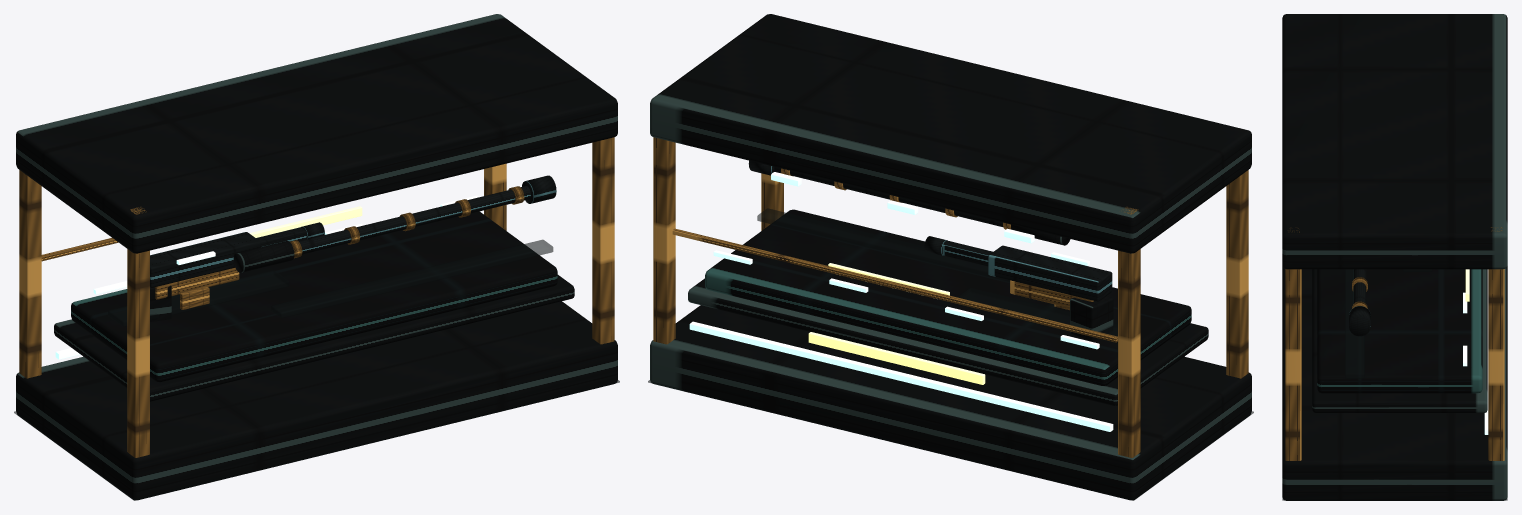
File: hp_room_museum_last_human_tool_vitrine.glb
3 views of the same model, side by side, from view 1: azimuth 30°, elevation 25°; view 2: azimuth 150°, elevation 25°; view 3: azimuth 270°, elevation 25° (orthographic). The views are drawn at different scales.
Visible parts, largest first — view 1: tool_case_upper_cap_smoked_black_textured, tool_case_lower_plinth_smoked_black_textured, tool_asset_single_cut_foam_tray, tool_case_inner_deck_smoked_display_floor, tool_case_aged_brass_corner_post_-1.005_-0.405, tool_case_aged_brass_corner_post_1.005_-0.405, tool_case_aged_brass_corner_post_-1.005_0.405, tool_asset_rod_recess_shadow, tool_asset_sidearm_slide_battleworn_black, tool_asset_iron_rod_battleworn_main_shaft, tool_asset_pistol_recess_shadow, tool_asset_iron_rod_black_grip_wrap (+5 smaller); view 2: tool_case_upper_cap_smoked_black_textured, tool_case_lower_plinth_smoked_black_textured, tool_asset_single_cut_foam_tray, tool_case_inner_deck_smoked_display_floor, tool_case_aged_brass_corner_post_-1.005_0.405, tool_case_aged_brass_corner_post_1.005_0.405, tool_case_aged_brass_corner_post_-1.005_-0.405, tool_case_cyan_floor_light_line, tool_asset_sidearm_slide_battleworn_black, tool_asset_rod_recess_shadow, tool_case_thin_front_lip_beveled_brass, tool_case_amber_unlabeled_accession_slot (+7 smaller); view 3: tool_case_upper_cap_smoked_black_textured, tool_case_lower_plinth_smoked_black_textured, tool_asset_single_cut_foam_tray, tool_case_inner_deck_smoked_display_floor, tool_case_aged_brass_corner_post_1.005_0.405, tool_case_aged_brass_corner_post_1.005_-0.405, tool_asset_rod_recess_shadow, tool_asset_iron_rod_flat_weighted_tip, contact_shadow_grounded, tool_asset_iron_rod_battleworn_main_shaft, tool_case_cyan_floor_light_line.
Boxes of the visible parts, bbox=[...] form: tool_case_upper_cap_smoked_black_textured: bbox=[16, 14, 617, 253]; tool_case_lower_plinth_smoked_black_textured: bbox=[16, 301, 617, 500]; tool_asset_single_cut_foam_tray: bbox=[71, 211, 557, 382]; tool_case_inner_deck_smoked_display_floor: bbox=[54, 275, 574, 401]; tool_case_aged_brass_corner_post_-1.005_-0.405: bbox=[127, 207, 149, 457]; tool_case_aged_brass_corner_post_1.005_-0.405: bbox=[592, 137, 614, 344]; tool_case_aged_brass_corner_post_-1.005_0.405: bbox=[19, 170, 41, 378]; tool_asset_rod_recess_shadow: bbox=[271, 239, 553, 317]; tool_asset_sidearm_slide_battleworn_black: bbox=[150, 232, 260, 287]; tool_asset_iron_rod_battleworn_main_shaft: bbox=[299, 186, 530, 254]; tool_asset_pistol_recess_shadow: bbox=[108, 270, 289, 326]; tool_asset_iron_rod_black_grip_wrap: bbox=[233, 241, 294, 272]; tool_case_upper_cap_smoked_black_textured: bbox=[650, 14, 1251, 253]; tool_case_lower_plinth_smoked_black_textured: bbox=[650, 305, 1251, 500]; tool_asset_single_cut_foam_tray: bbox=[705, 209, 1191, 385]; tool_case_inner_deck_smoked_display_floor: bbox=[688, 278, 1208, 405]; tool_case_aged_brass_corner_post_-1.005_0.405: bbox=[1118, 207, 1140, 457]; tool_case_aged_brass_corner_post_1.005_0.405: bbox=[653, 137, 675, 344]; tool_case_aged_brass_corner_post_-1.005_-0.405: bbox=[1226, 170, 1248, 378]; tool_case_cyan_floor_light_line: bbox=[689, 321, 1113, 431]; tool_asset_sidearm_slide_battleworn_black: bbox=[988, 245, 1112, 301]; tool_asset_rod_recess_shadow: bbox=[757, 208, 1009, 282]; tool_case_thin_front_lip_beveled_brass: bbox=[672, 228, 1117, 342]; tool_case_amber_unlabeled_accession_slot: bbox=[808, 332, 985, 384]; tool_case_upper_cap_smoked_black_textured: bbox=[1282, 14, 1507, 269]; tool_case_lower_plinth_smoked_black_textured: bbox=[1282, 266, 1507, 500]; tool_asset_single_cut_foam_tray: bbox=[1317, 269, 1482, 393]; tool_case_inner_deck_smoked_display_floor: bbox=[1312, 269, 1487, 412]; tool_case_aged_brass_corner_post_1.005_0.405: bbox=[1488, 227, 1504, 460]; tool_case_aged_brass_corner_post_1.005_-0.405: bbox=[1285, 228, 1301, 460]; tool_asset_rod_recess_shadow: bbox=[1345, 269, 1364, 378]; tool_asset_iron_rod_flat_weighted_tip: bbox=[1349, 306, 1370, 336]; contact_shadow_grounded: bbox=[1282, 498, 1507, 500]; tool_asset_iron_rod_battleworn_main_shaft: bbox=[1353, 269, 1366, 303]; tool_case_cyan_floor_light_line: bbox=[1484, 269, 1488, 434].
Size of the model in its own units: 2.1 by 1.18 by 0.9.
9 materials, 5 textured.
